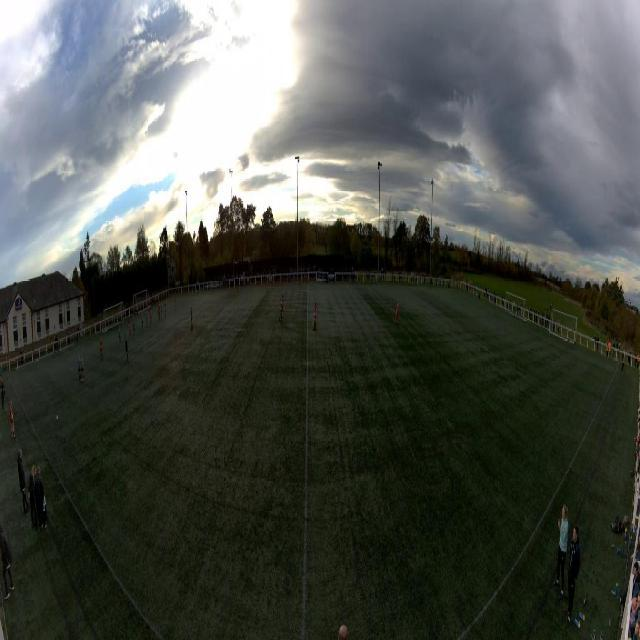ball: (56, 416, 59, 422)
player: (79, 355, 84, 383), (124, 335, 129, 362), (313, 301, 317, 330), (77, 355, 81, 383), (395, 299, 399, 324), (99, 338, 103, 360), (279, 296, 282, 322), (281, 294, 284, 318), (133, 314, 136, 334), (128, 316, 131, 335), (119, 326, 122, 345), (191, 306, 193, 331), (114, 314, 117, 329), (141, 311, 143, 332), (164, 301, 166, 319), (174, 293, 176, 310), (150, 309, 152, 325), (161, 303, 163, 319), (146, 311, 148, 327), (158, 305, 160, 320), (158, 302, 160, 312)
